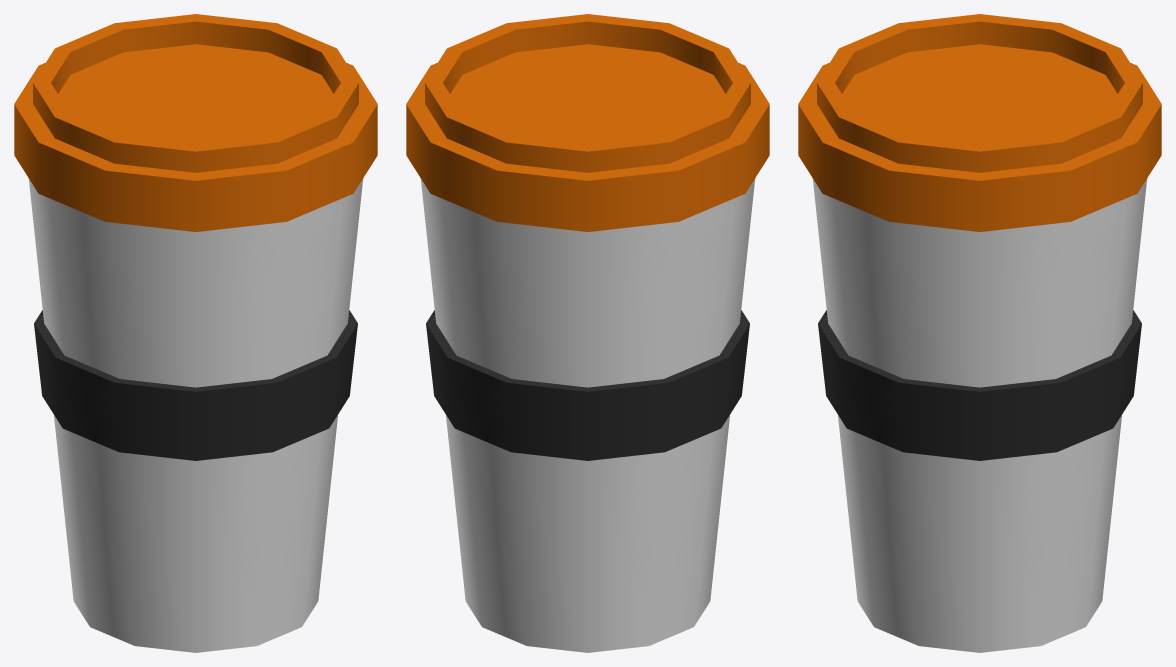
File: ToGoBecher.fbx
The picture shows the model from 3 angles, left to right: view 1: azimuth 30°, elevation 25°; view 2: azimuth 150°, elevation 25°; view 3: azimuth 270°, elevation 25°; orthographic projection.
Parts seen in each view (by area): view 1: Cylinder; view 2: Cylinder; view 3: Cylinder.
Part boxes in pixels (box(x1,y1,x2,y2)): Cylinder: box(14, 14, 377, 652); Cylinder: box(406, 14, 769, 652); Cylinder: box(798, 14, 1161, 652).
Size of the model in its own units: 59.72 by 93.97 by 59.72.
